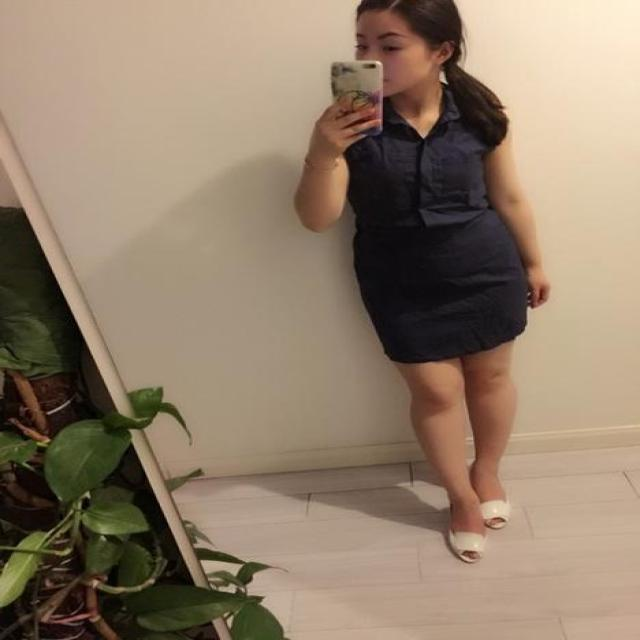skirt: (361, 210, 529, 358)
vest: (338, 82, 485, 230)
